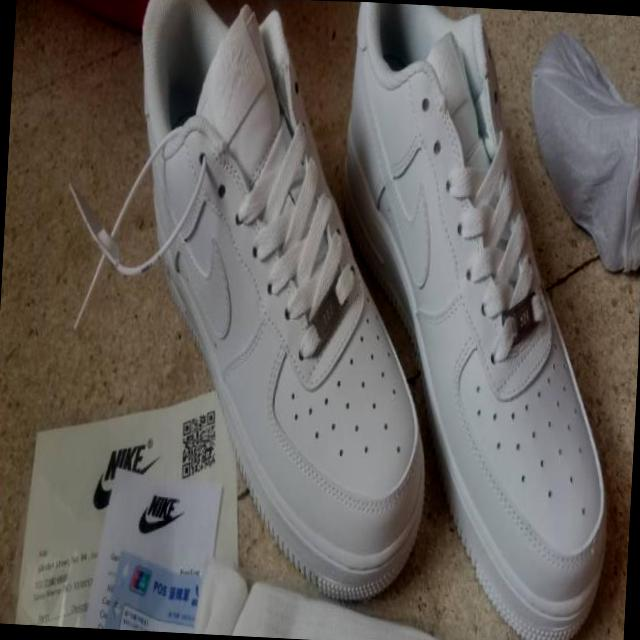nike_fake_airforce: (110, 0, 453, 616), (314, 1, 637, 640)
